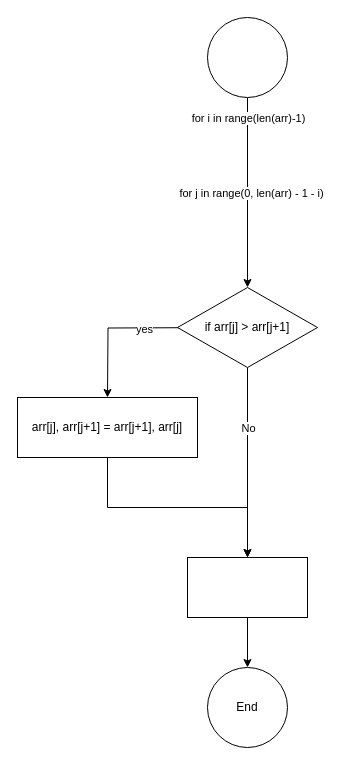
The diagram is 341 pixels wide and 765 high, and some of its shapes have lost their labels. The box of each missing label's shape, as (x1, y1, x2, y2) in pixels:
return arr: (186, 556, 308, 618)
Start: (206, 16, 288, 98)
